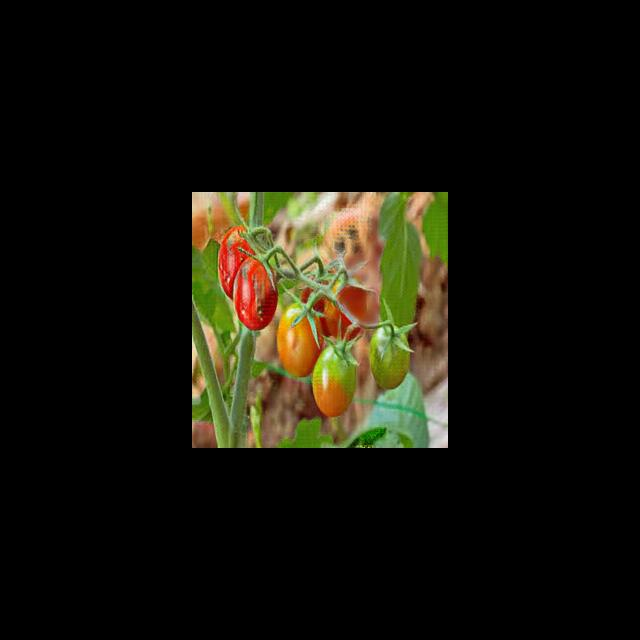tomato: (230, 257, 282, 327), (217, 226, 252, 291)
